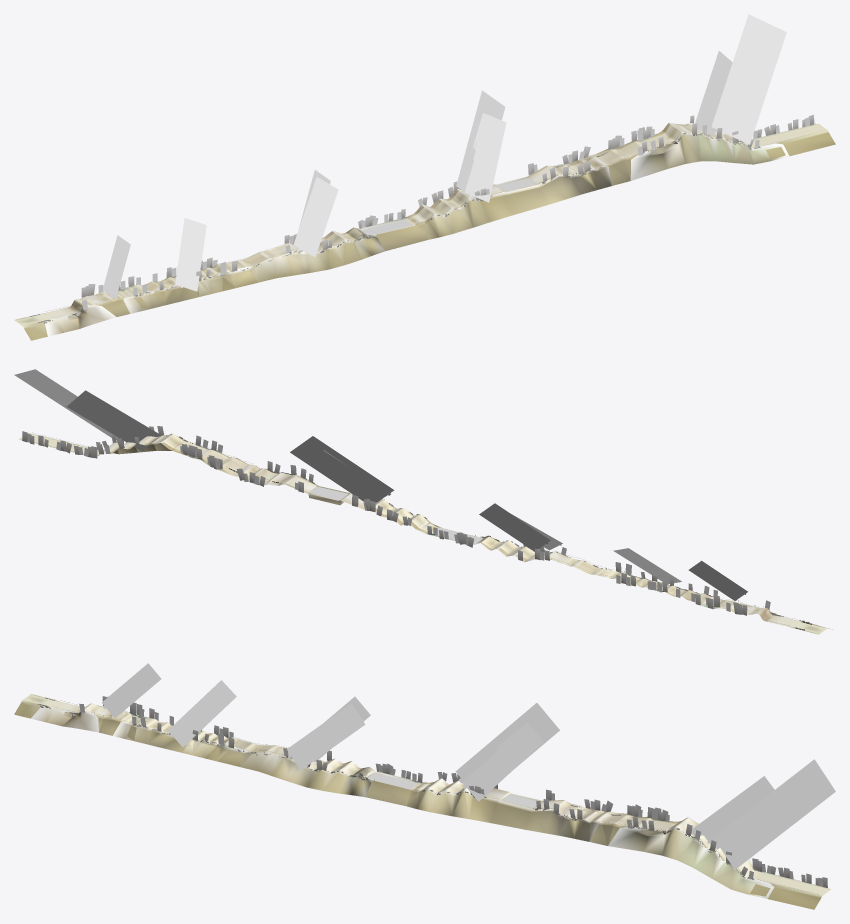
File: Beach_10.fbx
3 renders of one model, top to bottom at view 1: azimuth 30°, elevation 25°; view 2: azimuth 150°, elevation 25°; view 3: azimuth 330°, elevation 25°, orthographic.
Visible parts, largest first — view 1: Light_01, Mountain_01, Road_01, Ground_01, Tree_01, Sea_01; view 2: Light_01, Tree_01, Ground_01, Road_01; view 3: Light_01, Mountain_01, Road_01, Ground_01, Tree_01, Sea_01.
Boxes of the visible parts, x1,y1,x2,y2 form: Light_01: (102,14,786,298); Mountain_01: (44,131,789,336); Road_01: (14,122,835,340); Ground_01: (15,124,826,325); Tree_01: (44,114,814,323); Sea_01: (361,178,536,235); Light_01: (14,369,747,600); Tree_01: (22,426,809,622); Ground_01: (20,433,826,633); Road_01: (19,433,832,634); Light_01: (101,663,835,869); Mountain_01: (31,706,774,898); Road_01: (14,694,830,909); Ground_01: (23,694,829,895); Tree_01: (40,696,827,887); Sea_01: (368,773,540,807).
Bounding box in the file's own units: 72202 × 9364 × 7058.
